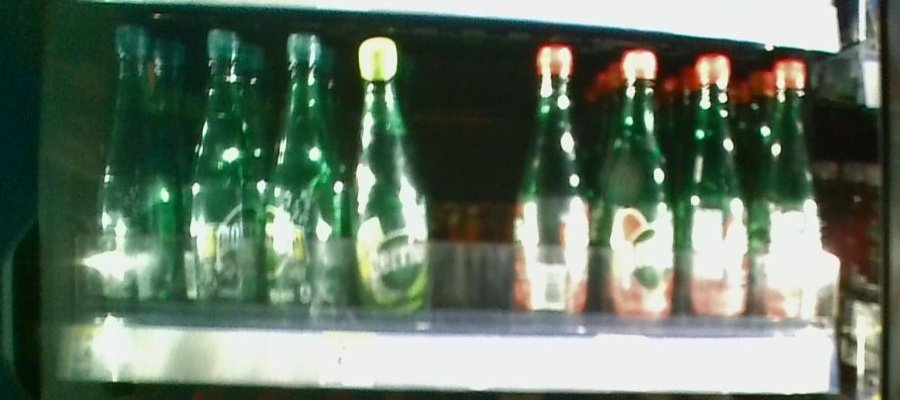bottle: (340, 33, 430, 352), (98, 20, 178, 322), (264, 33, 339, 329), (602, 40, 676, 331), (517, 41, 591, 330), (188, 23, 257, 329), (682, 39, 748, 337), (758, 53, 825, 330)
